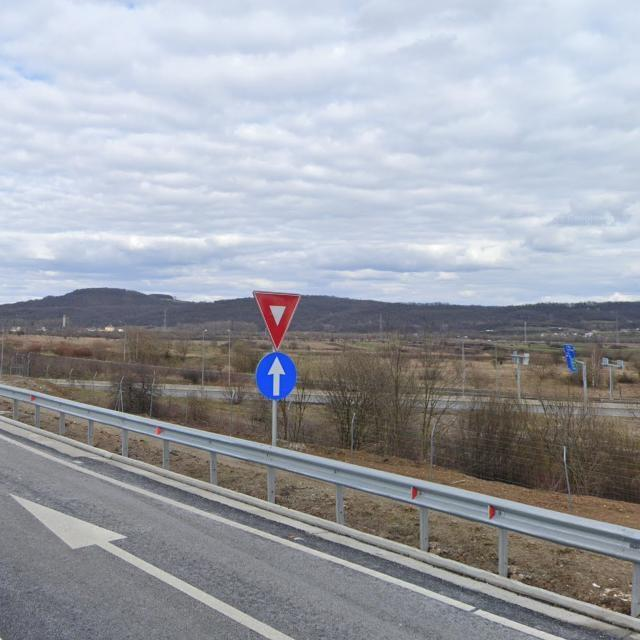prio_give_way: (252, 290, 303, 351)
